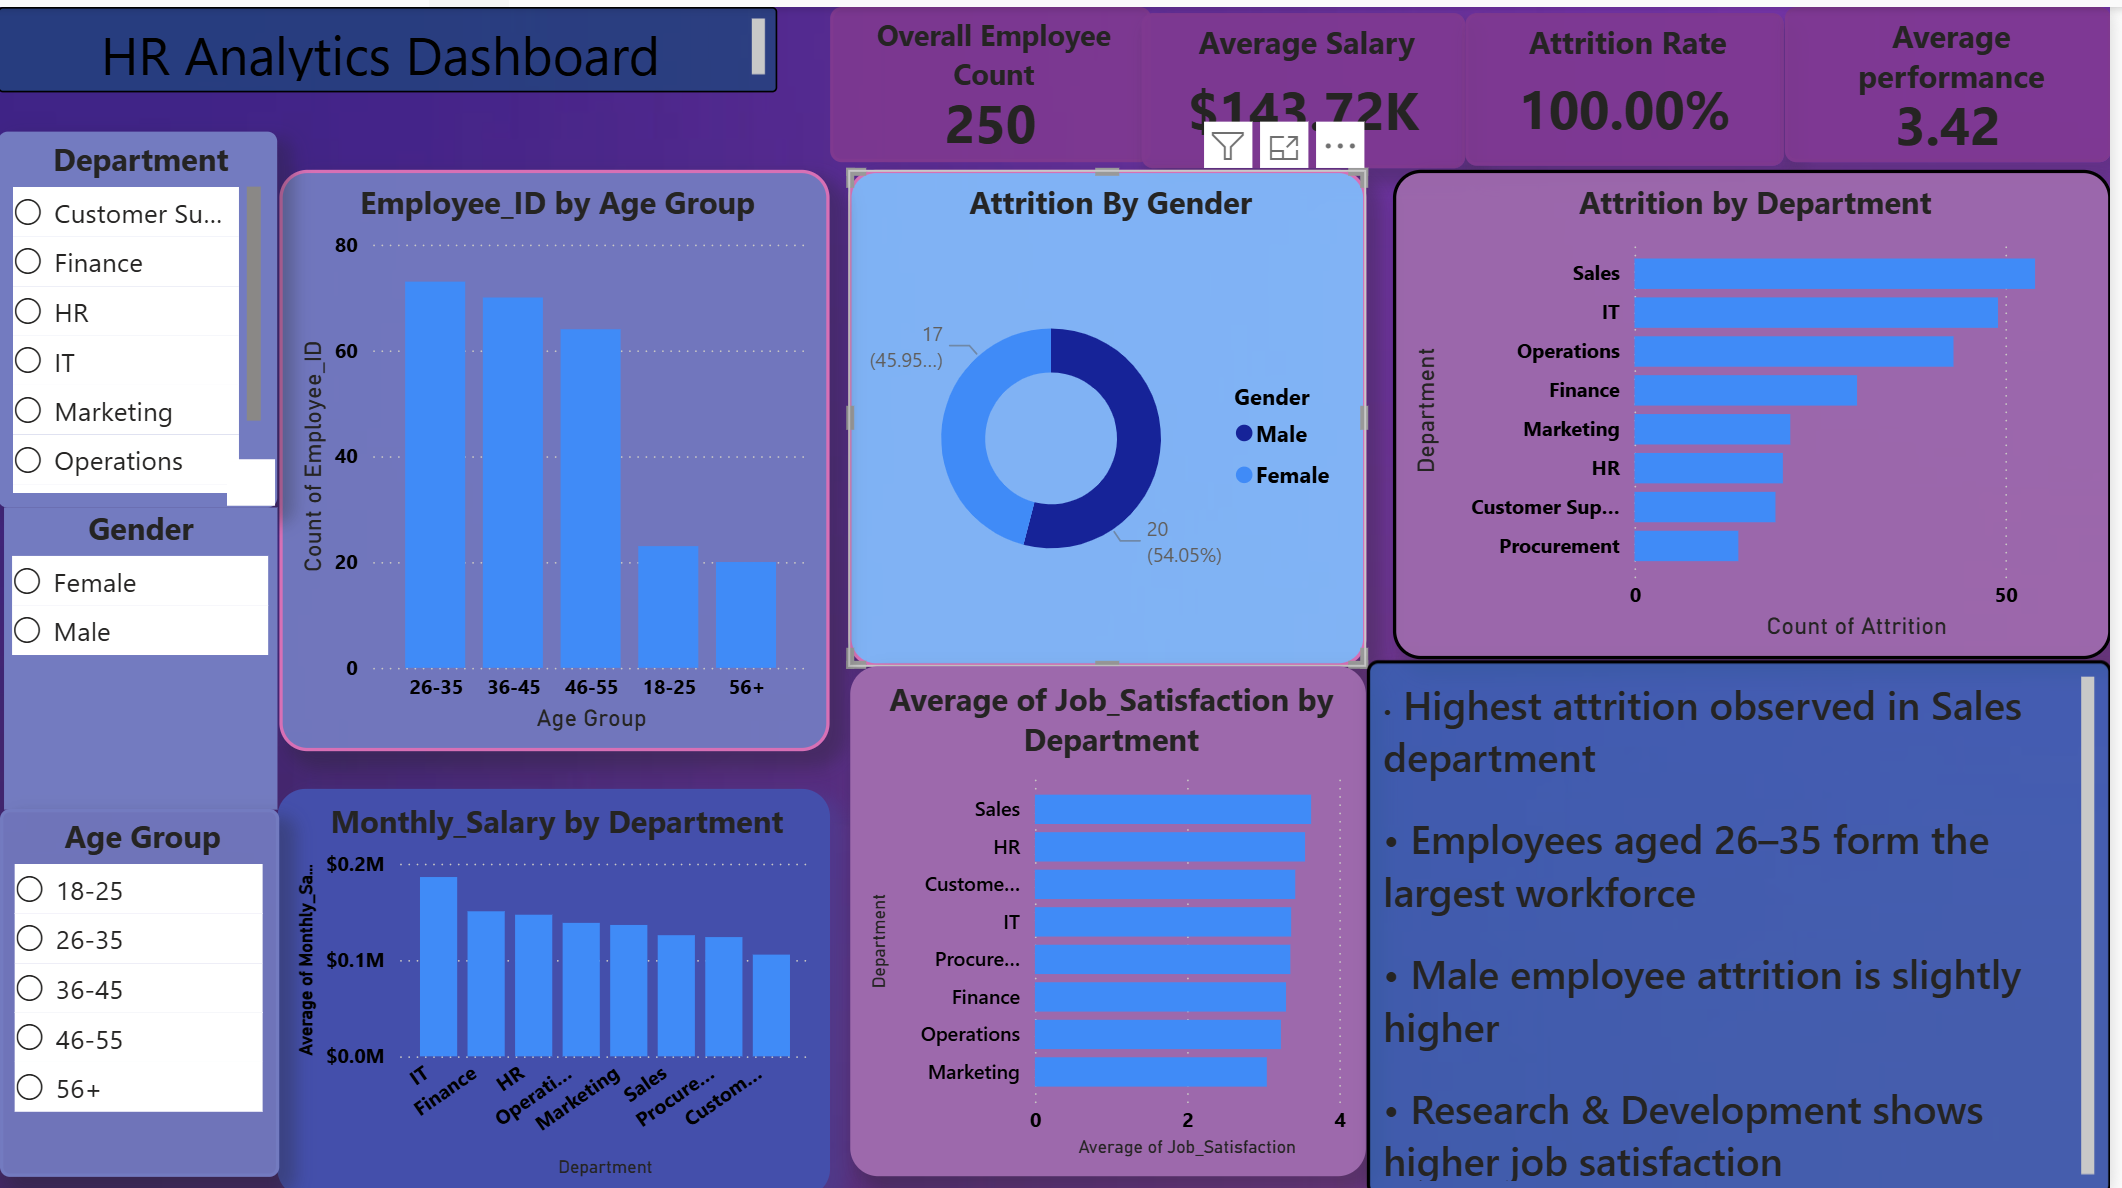

Layout of this report page (visuals, bound fields, positions):
{"tool":"powerbi","page":{"name":"Page 1","canvas":[1280,720],"ordinal":0},"visuals":[{"type":"textbox","box":[0,0,471.9,51.9],"z":0},{"type":"card","title":"Overall Employee Count","fields":{"Values":["CountNonNull(HR_Raw_Data.Employee_ID)"]},"box":[503.6,0,194.4,94],"z":1000},{"type":"card","title":"Average Salary","fields":{"Values":["Avg(HR_Raw_Data.Monthly_Salary)"]},"box":[693.3,3.2,196,94],"z":2000},{"type":"card","title":"Attrition Rate","fields":{"Values":["HR_Raw_Data.Attrition Rate"]},"box":[889.3,3.2,192.8,92.4],"z":3000},{"type":"card","title":"Average performance","fields":{"Values":["Avg(HR_Raw_Data.Performance_Rating)"]},"box":[1082.1,0,197.6,94],"z":4000},{"type":"clusteredBarChart","title":" Attrition by Department","fields":{"Category":["HR_Raw_Data.Department"],"Y":["CountNonNull(HR_Raw_Data.Attrition)"]},"box":[844.7,98.8,435.1,296.4],"z":5000},{"type":"donutChart","title":"Attrition By Gender","fields":{"Category":["HR_Raw_Data.Gender"],"Series":["HR_Raw_Data.Attrition"],"Y":["CountNonNull(HR_Raw_Data.Attrition)"]},"box":[514.8,98.8,314,301.2],"z":6000},{"type":"columnChart","title":" Employee_ID by Age Group","fields":{"Category":["HR_Raw_Data.Age Group"],"Y":["CountNonNull(HR_Raw_Data.Employee_ID)"]},"box":[170.5,98.8,333.1,352.2],"z":7000},{"type":"clusteredColumnChart","title":" Monthly_Salary by Department","fields":{"Category":["HR_Raw_Data.Department"],"Y":["Avg(HR_Raw_Data.Monthly_Salary)"]},"box":[168.9,473.3,334.7,247],"z":8000},{"type":"clusteredBarChart","fields":{"Category":["HR_Raw_Data.Department"],"Y":["Avg(HR_Raw_Data.Job_Satisfaction)"]},"box":[516.4,400,312.4,309.2],"z":9000},{"type":"listSlicer","fields":{"Values":["HR_Raw_Data.Department"]},"box":[0,74.9,168.9,227.9],"z":10000},{"type":"listSlicer","fields":{"Values":["HR_Raw_Data.Gender"]},"box":[3.2,302.8,165.7,183.3],"z":10001},{"type":"listSlicer","fields":{"Values":["HR_Raw_Data.Age Group"]},"box":[1.6,486.1,168.9,223.1],"z":10002},{"type":"textbox","box":[828.7,395.2,451,325.1],"z":10003}]}

Visuals, with their boxes in screenshot pixels (x1, y1, x2, y2), scaled from the page's 1280x720 canvas onto the 2122x1188 screenshot:
textbox: 0, 0, 782, 86
"Overall Employee Count" card: 835, 0, 1157, 155
"Average Salary" card: 1149, 5, 1474, 160
"Attrition Rate" card: 1474, 5, 1794, 158
"Average performance" card: 1794, 0, 2121, 155
" Attrition by Department" clusteredBarChart: 1400, 163, 2121, 652
"Attrition By Gender" donutChart: 853, 163, 1374, 660
" Employee_ID by Age Group" columnChart: 283, 163, 835, 744
" Monthly_Salary by Department" clusteredColumnChart: 280, 781, 835, 1187
clusteredBarChart - HR_Raw_Data.Department x Avg(HR_Raw_Data.Job_Satisfaction): 856, 660, 1374, 1170
listSlicer - HR_Raw_Data.Department: 0, 124, 280, 500
listSlicer - HR_Raw_Data.Gender: 5, 500, 280, 802
listSlicer - HR_Raw_Data.Age Group: 3, 802, 283, 1170
textbox: 1374, 652, 2121, 1187
